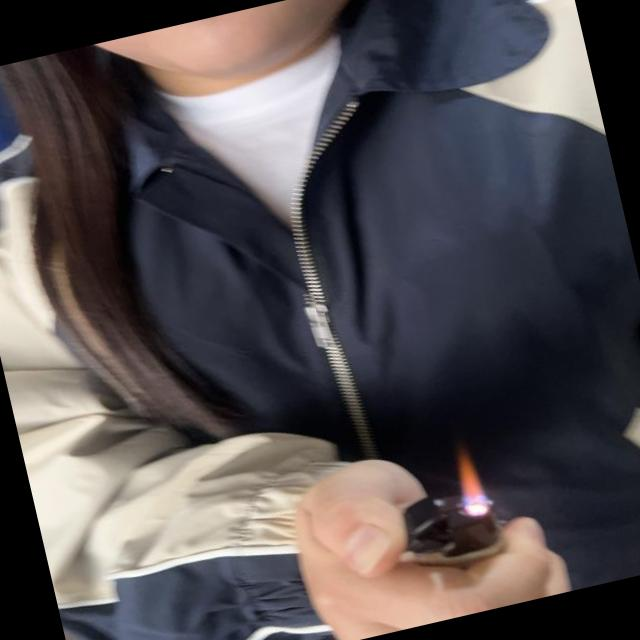Fire: (450, 441, 492, 516)
